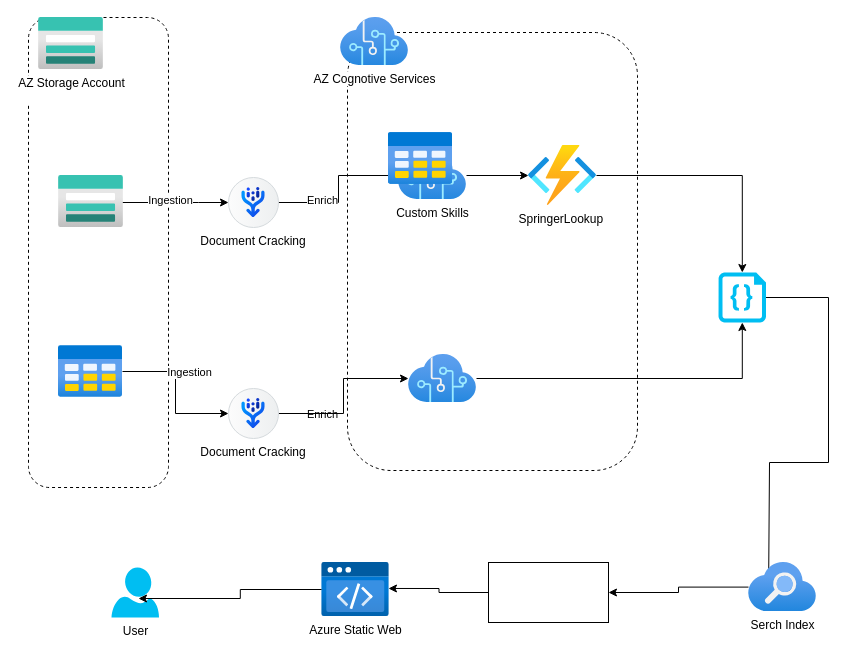
Some shapes in this 854 by 671 pixel diagram are drawn without their labels. The centre of each missing label's shape, as x and y in pixels:
Course Indexer: point 442,378
Course Table: point 90,371
Eriched Document: point 742,297
Paper Data: point 90,201
Query: point 548,592
